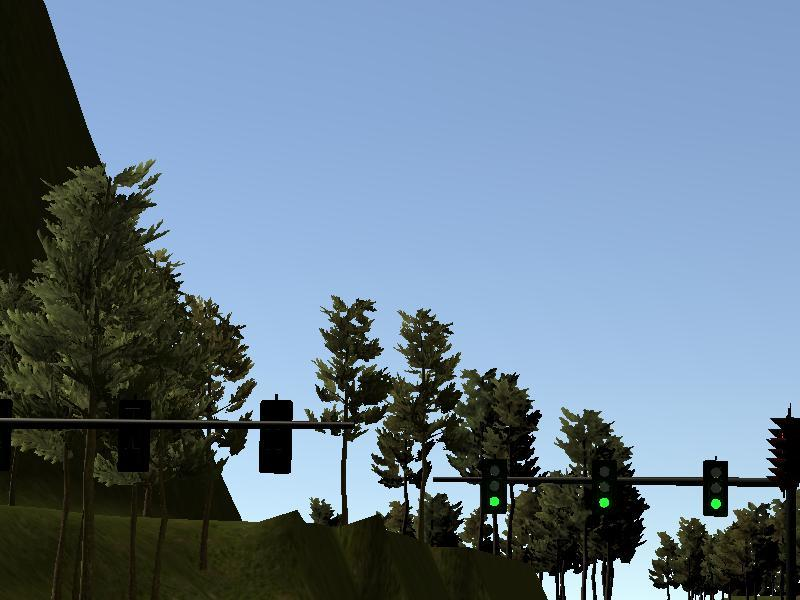Green: (702, 459, 729, 520), (589, 459, 614, 516), (482, 459, 507, 513)
